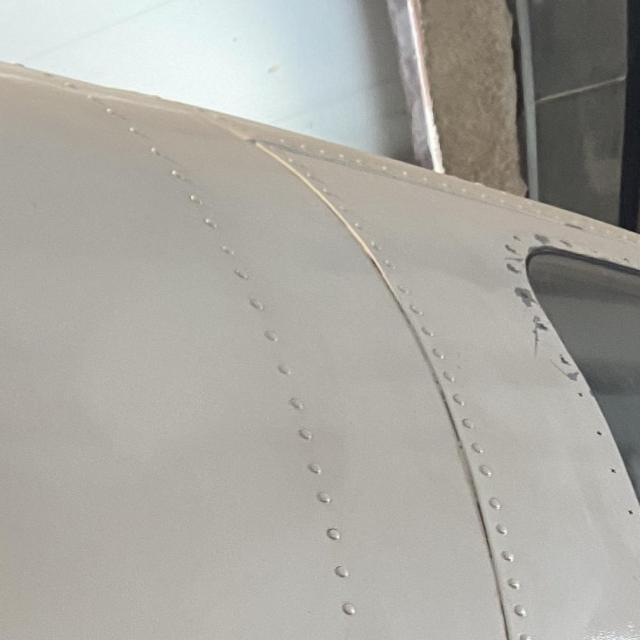Paint-off: (505, 245, 523, 258), (565, 370, 583, 381), (560, 224, 584, 231)
